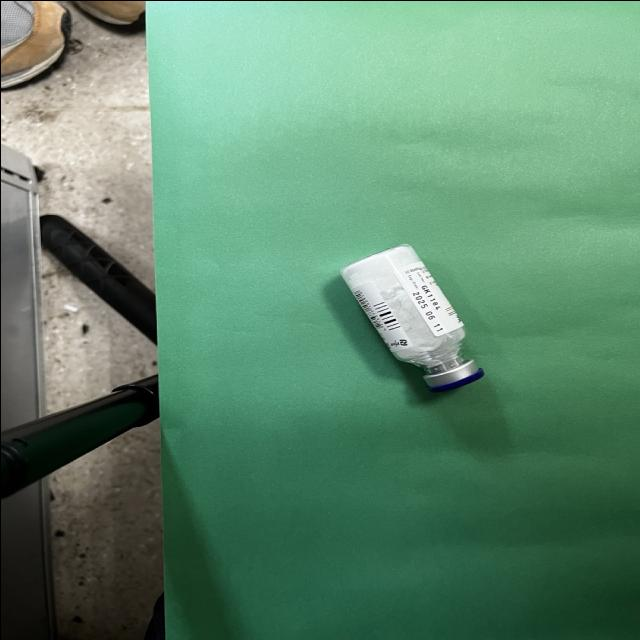Vials: (339, 244, 483, 391)
